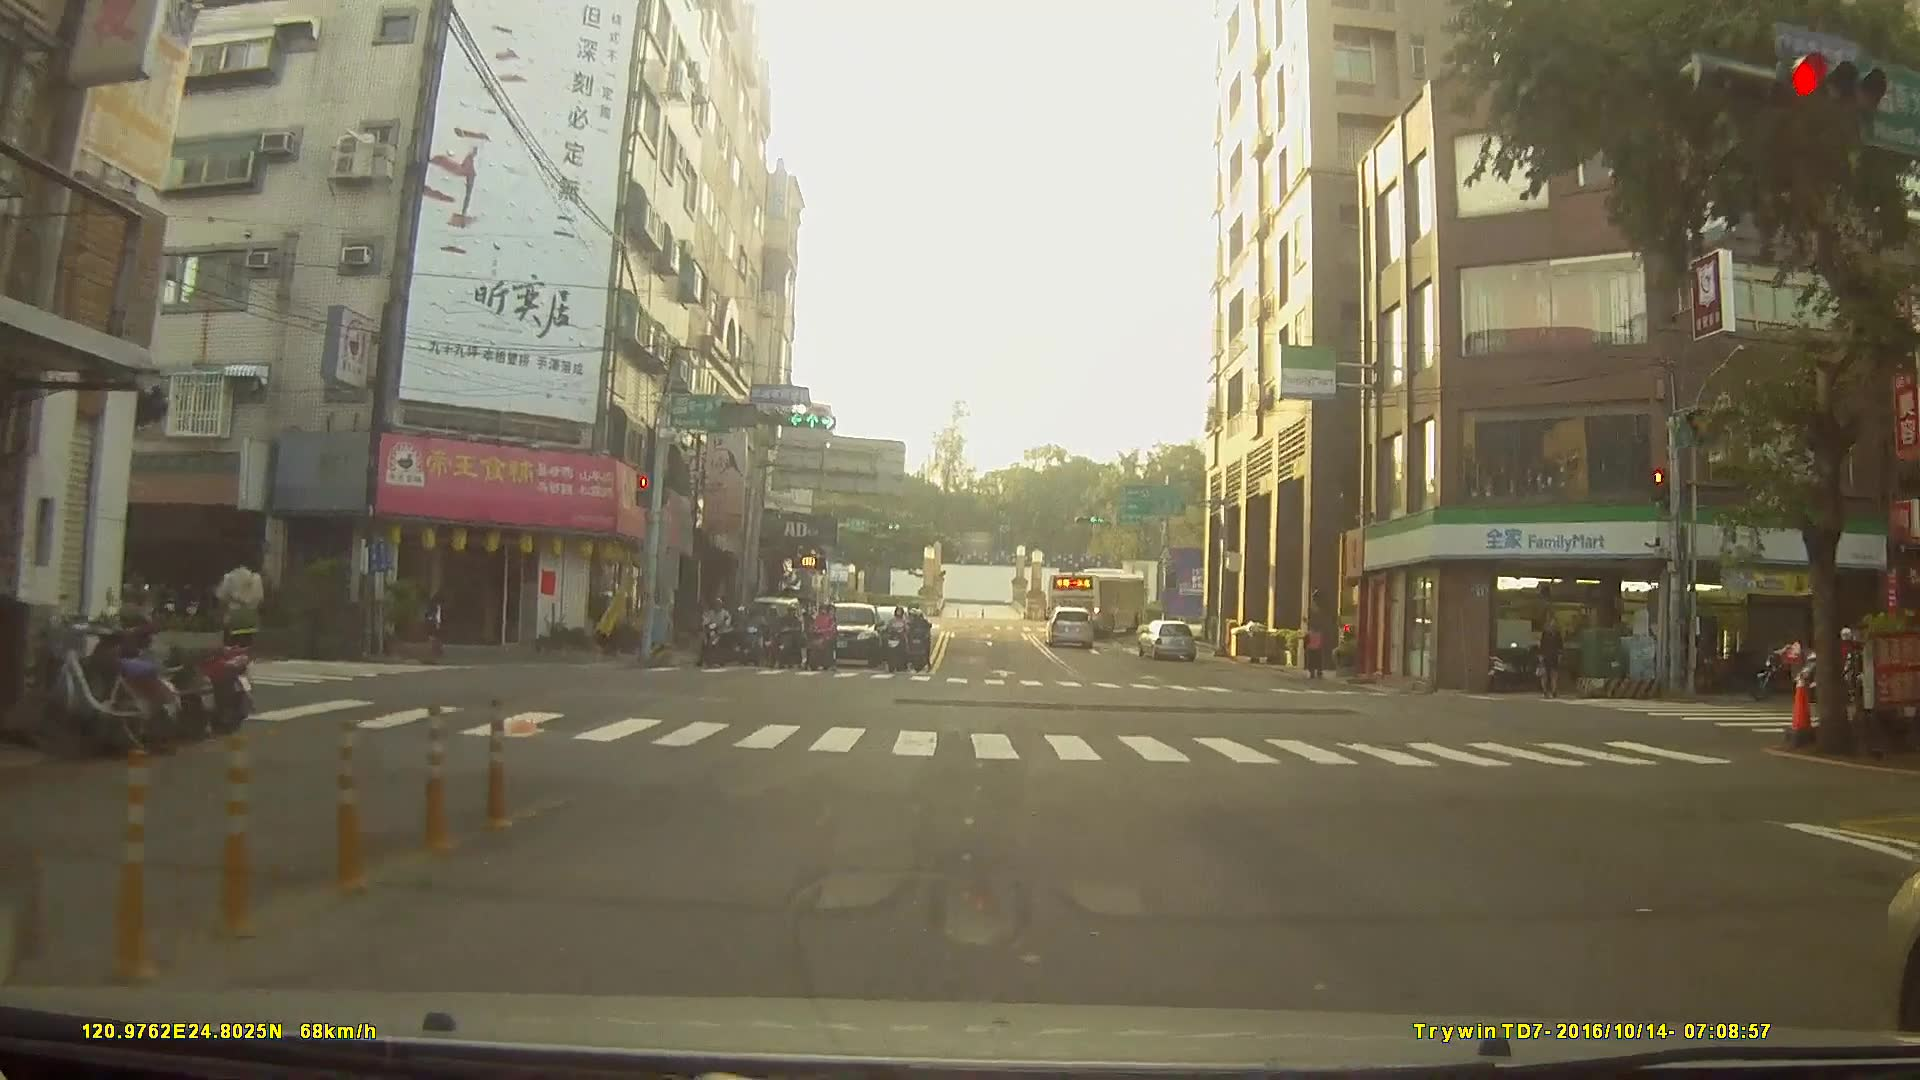pedestrian: (211, 535, 273, 694), (1539, 617, 1568, 697), (424, 591, 455, 663), (1301, 615, 1326, 677)
rider: (699, 596, 734, 665), (809, 603, 841, 675), (773, 604, 806, 668), (907, 604, 935, 671), (886, 607, 911, 676), (739, 596, 768, 656)
vehicle: (1045, 564, 1149, 630), (813, 595, 885, 666), (1134, 617, 1196, 658), (1044, 603, 1095, 648)
